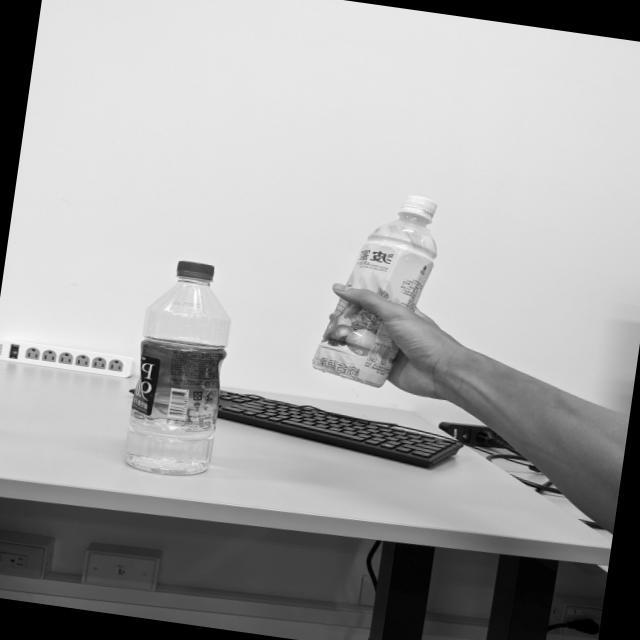good: (297, 175, 458, 392), (107, 244, 251, 484)
